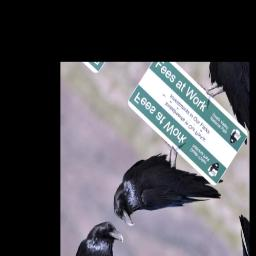Crow: (104, 119, 230, 256)
